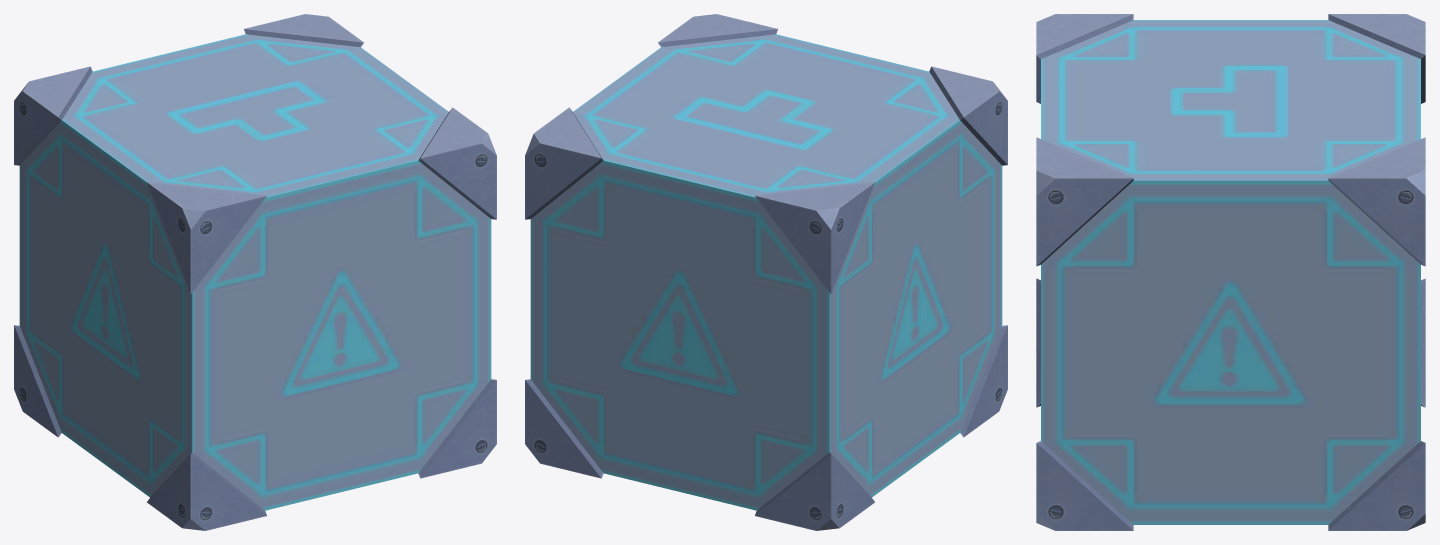
File: DefensePathStart.obj
3 views of the same model, side by side, from view 1: azimuth 30°, elevation 25°; view 2: azimuth 150°, elevation 25°; view 3: azimuth 270°, elevation 25° (orthographic). The views are drawn at different scales.
Visible parts, largest first — view 1: DefensePathStart; view 2: DefensePathStart; view 3: DefensePathStart.
Part boxes in pixels (bbox=[...]): DefensePathStart: bbox=[14, 14, 496, 530]; DefensePathStart: bbox=[525, 14, 1007, 530]; DefensePathStart: bbox=[1036, 14, 1425, 530].
Size of the model in its own units: 3 by 3 by 3.
3 materials, 3 textured.
